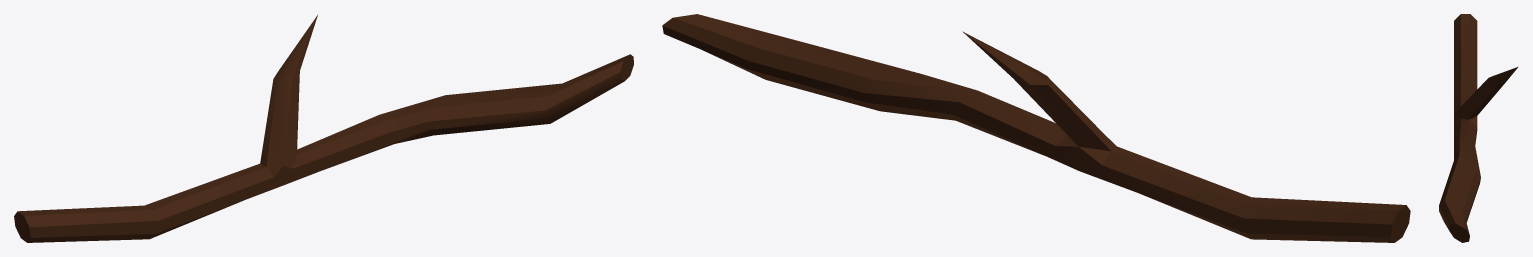
Rendered from SM_Stick_01.fbx.
3 renders of one model, left to right at view 1: azimuth 30°, elevation 25°; view 2: azimuth 150°, elevation 25°; view 3: azimuth 270°, elevation 25°, orthographic. The views are drawn at different scales.
Visible parts, largest first — view 1: stick; view 2: stick; view 3: stick.
Boxes of the visible parts, x1,y1,x2,y2 form: stick: [14, 15, 633, 242]; stick: [662, 14, 1410, 242]; stick: [1439, 14, 1517, 242].
Size of the model in its own units: 115 by 17.24 by 26.25.
